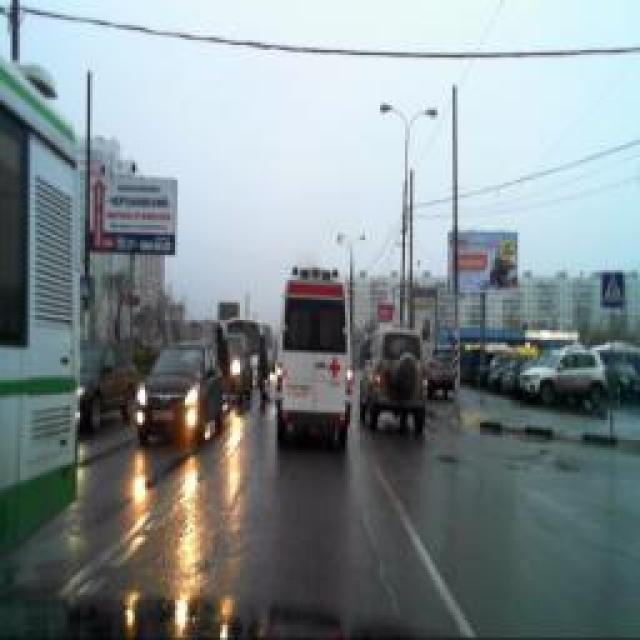sign: (601, 272, 624, 306), (80, 275, 92, 300)
